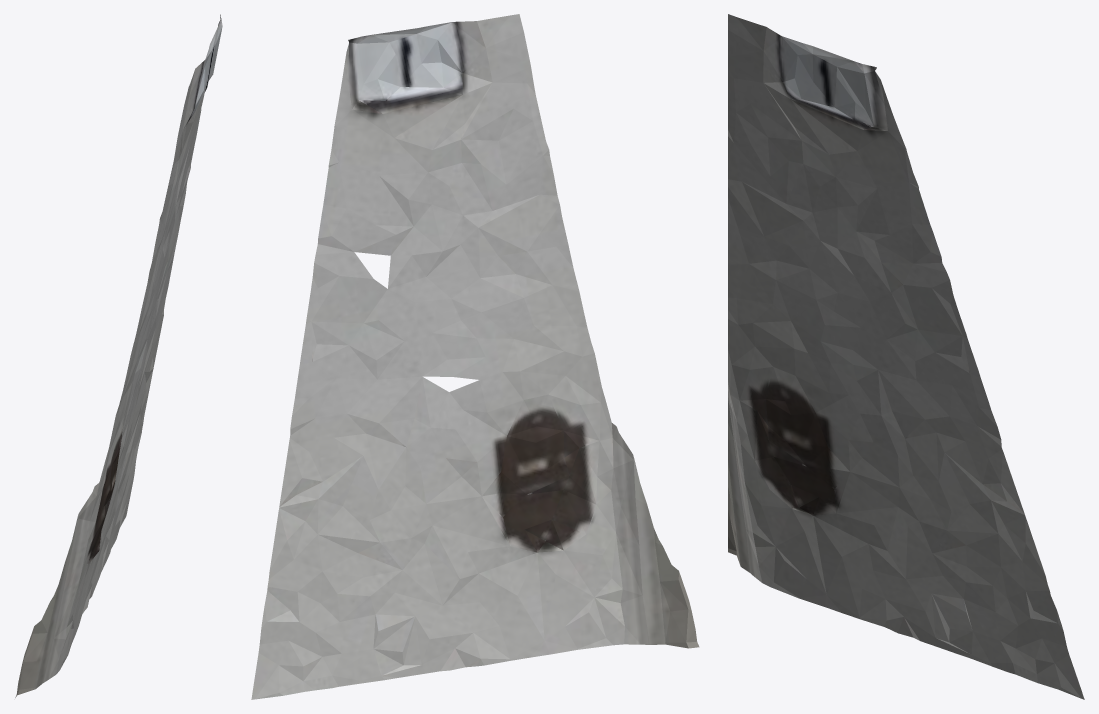
The picture shows the model from 3 angles, left to right: view 1: azimuth 30°, elevation 25°; view 2: azimuth 150°, elevation 25°; view 3: azimuth 270°, elevation 25°; orthographic projection. The views are drawn at different scales.
Bounding box in the file's own units: 0.4195 × 0.8374 × 0.4279.
2 materials, 2 textured.
